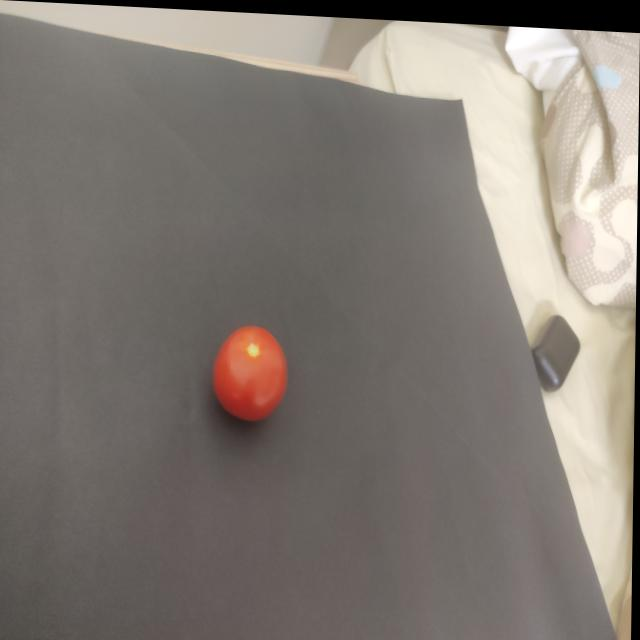kirmizi: (207, 309, 294, 429)
